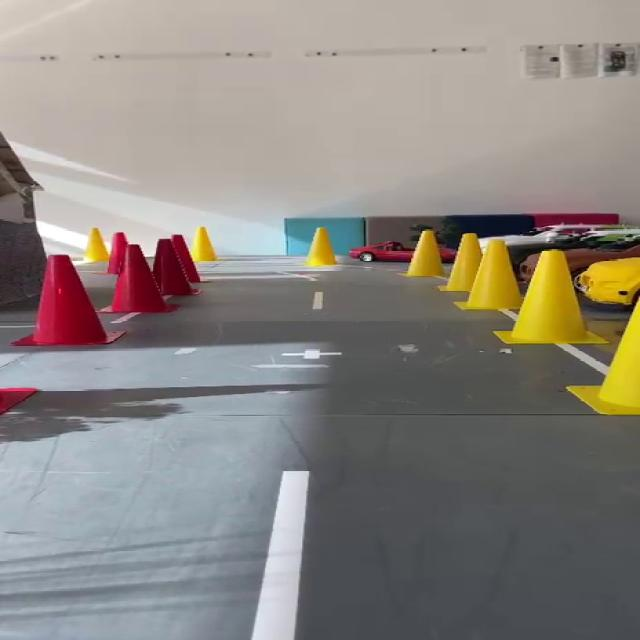Cone-red: (12, 245, 171, 345), (150, 235, 201, 295), (106, 233, 128, 278), (0, 388, 36, 413)
Cones-yellow: (458, 239, 608, 343), (566, 302, 639, 415), (440, 234, 479, 291), (406, 229, 444, 276), (86, 228, 112, 273), (305, 228, 335, 265), (188, 227, 218, 263)
